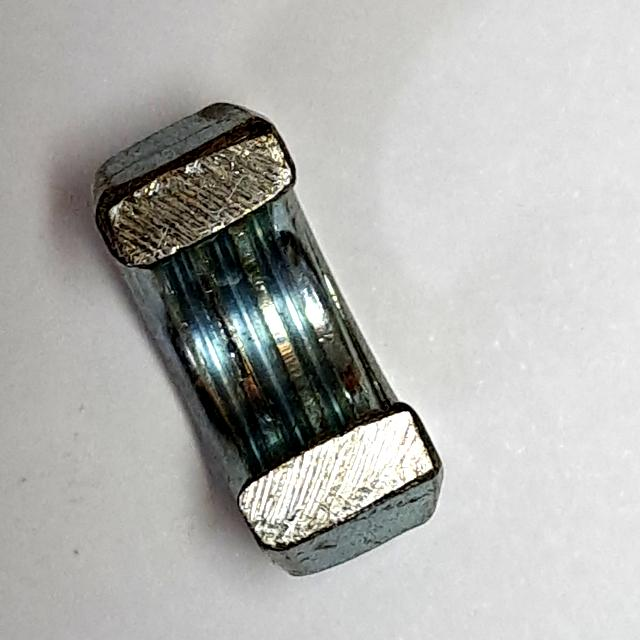Side-Fracture: (79, 79, 460, 590)
